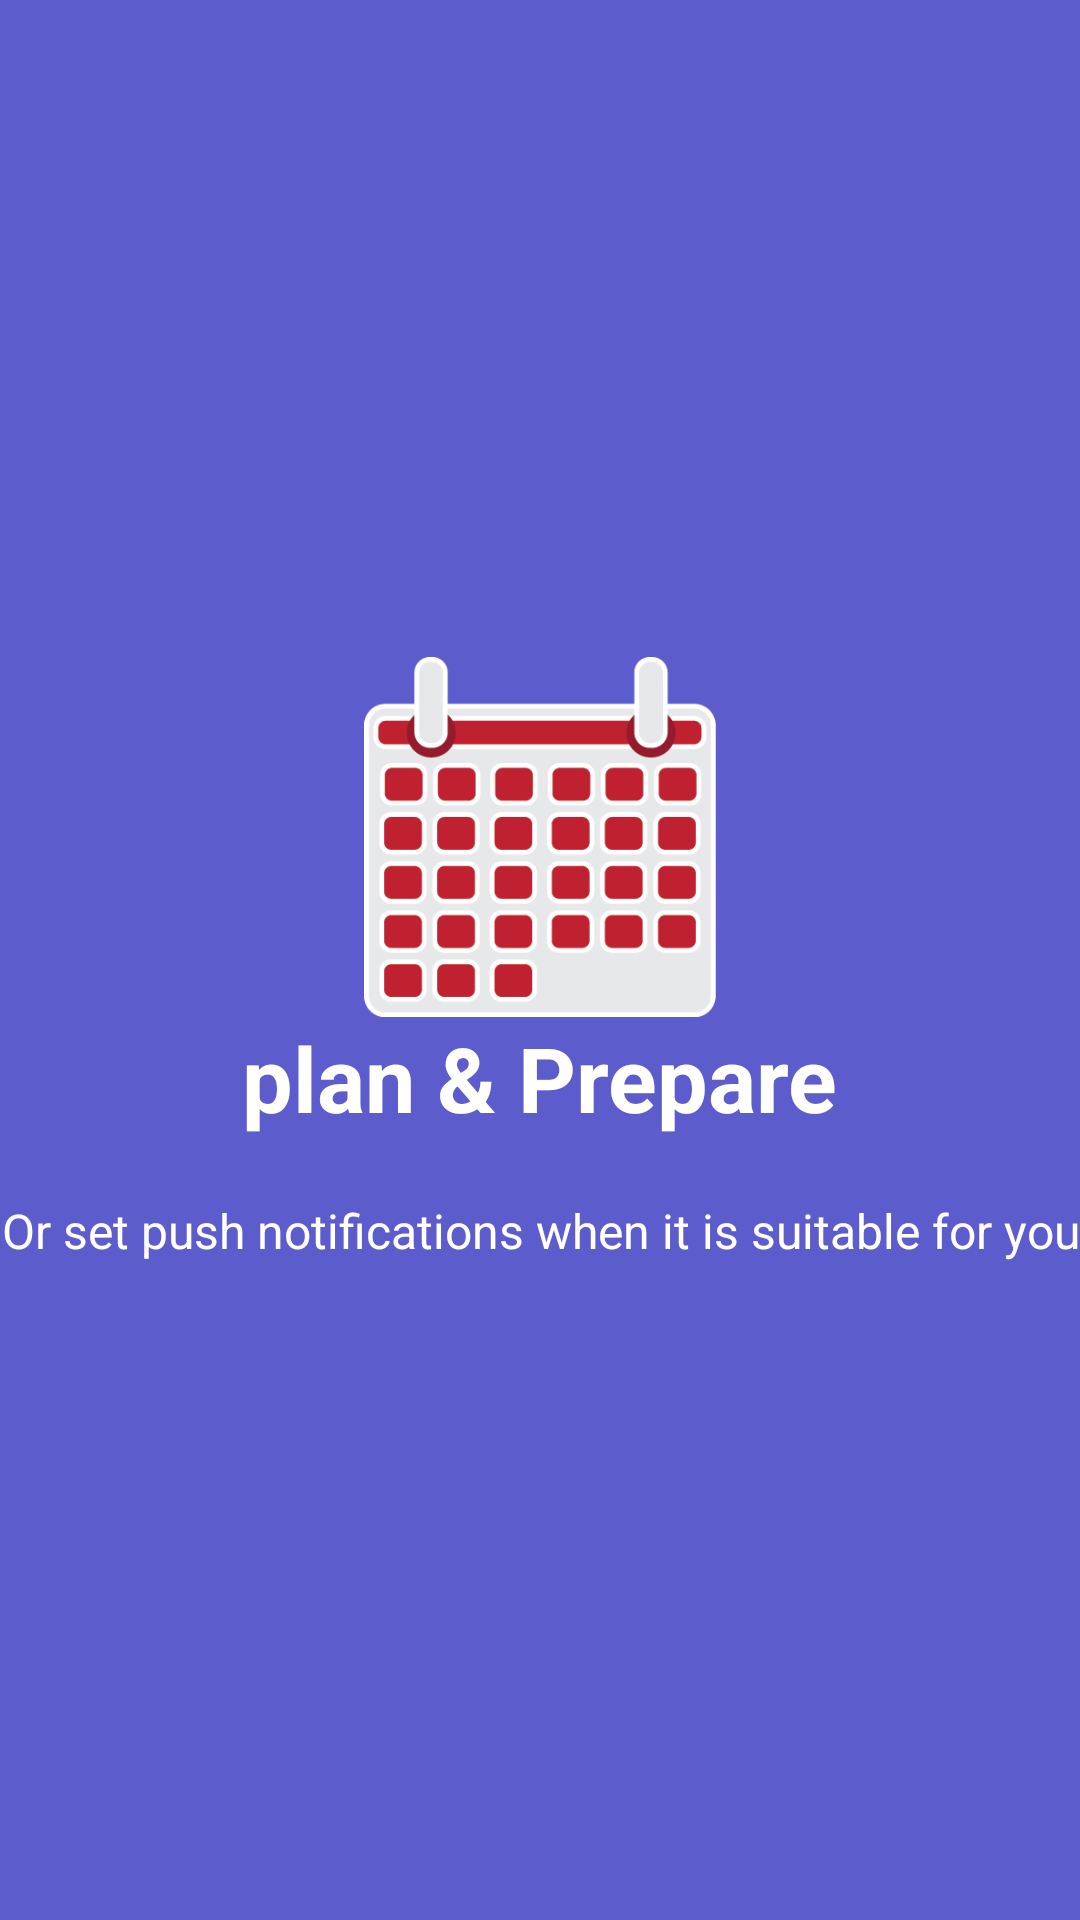

Screen size 1080px×1920px. Icon name, then its box in pixels as (x1, y1, x2, y2):
calender high dens: (364, 657, 716, 1017)
